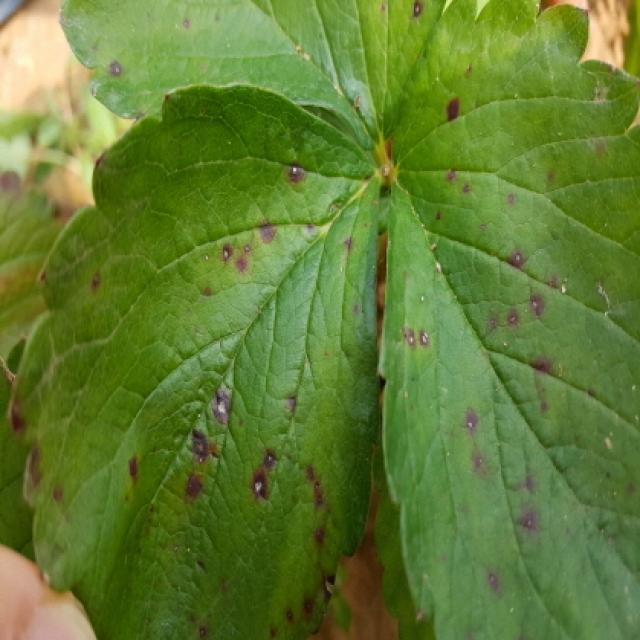Leaf Spot: (8, 83, 381, 638), (378, 0, 638, 638), (56, 0, 446, 160)
